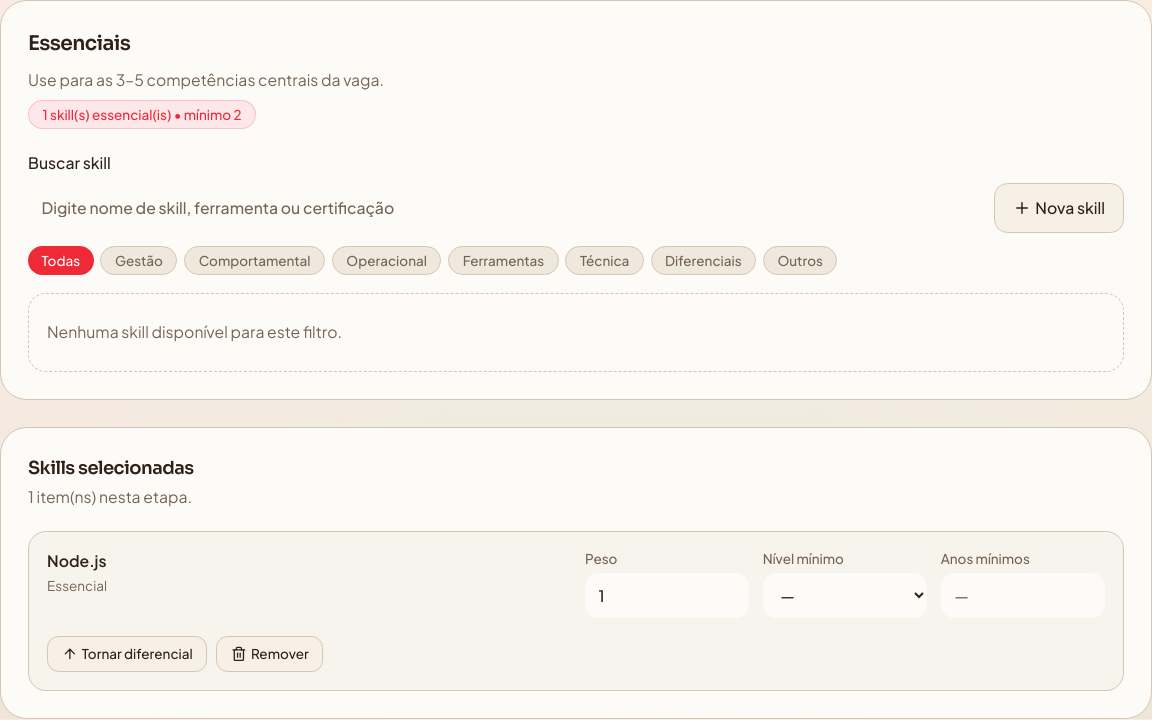
it: job skill steps › salva peso apenas ao sair do campo e bloqueia transferência enquanto há alteração pendente
The image size is (1152, 720).
Replace the text in the number field labelled "Peso" with "2" at (667, 595), box 585,572 -> 749,618
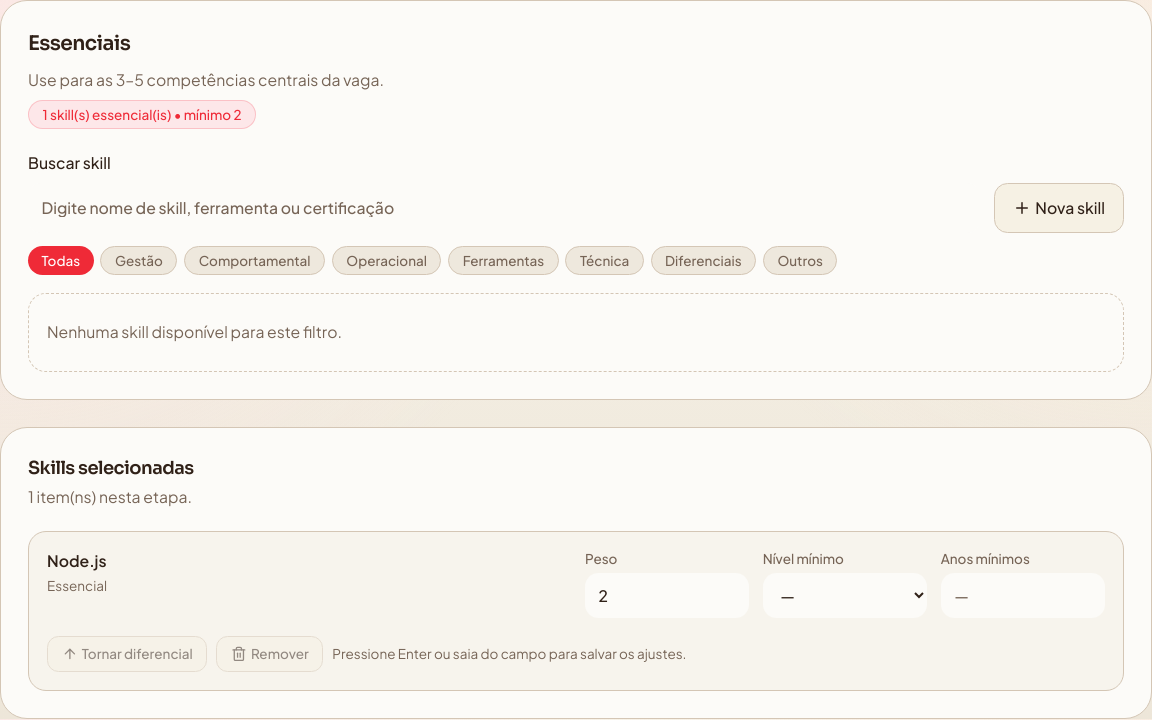
Expected: the button "Tornar diferencial" is disabled, 47,636 -> 207,672
